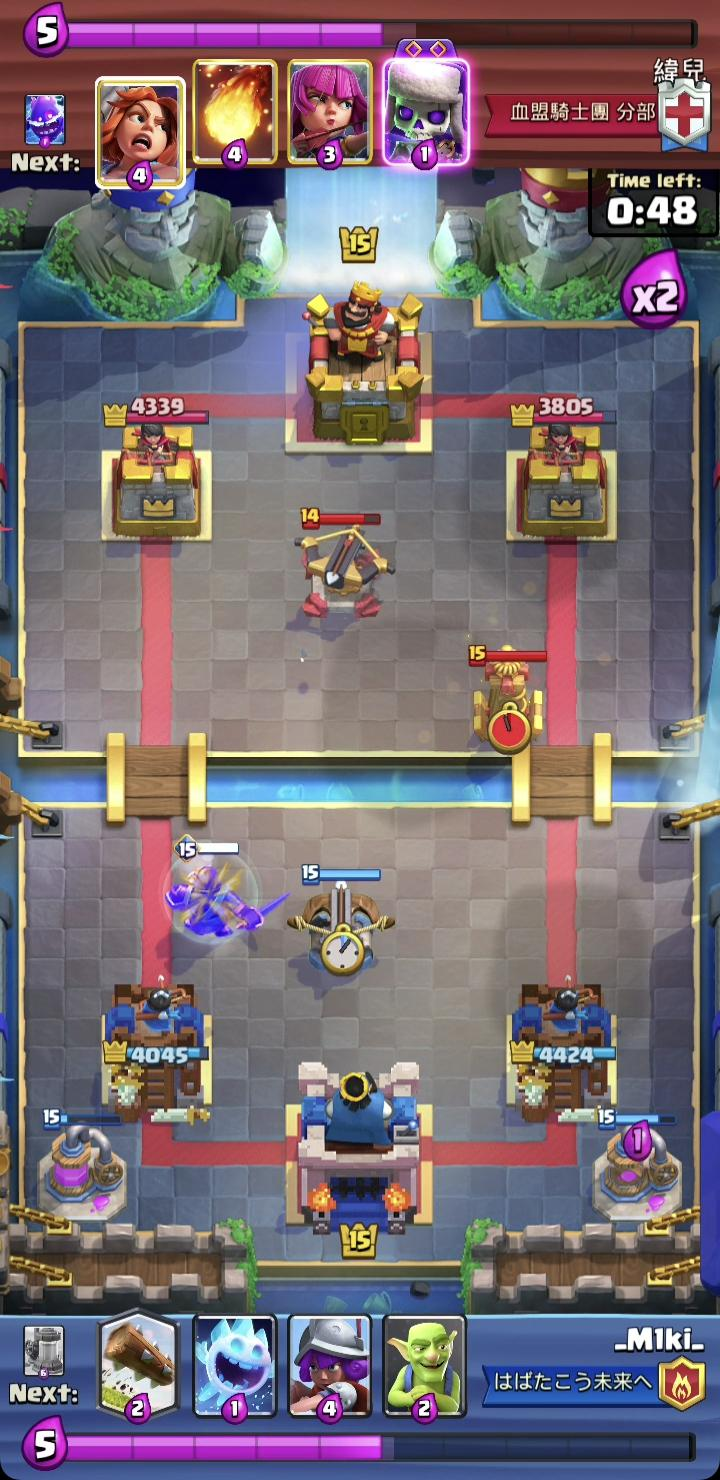ally_elixirpump: (591, 1106, 686, 1225), (35, 1108, 129, 1226)
ally_knight_evo: (162, 833, 290, 947)
ally_xbow: (286, 864, 397, 976)
enemy_tesla: (468, 642, 547, 747)
enemy_xbow: (291, 508, 397, 619)
